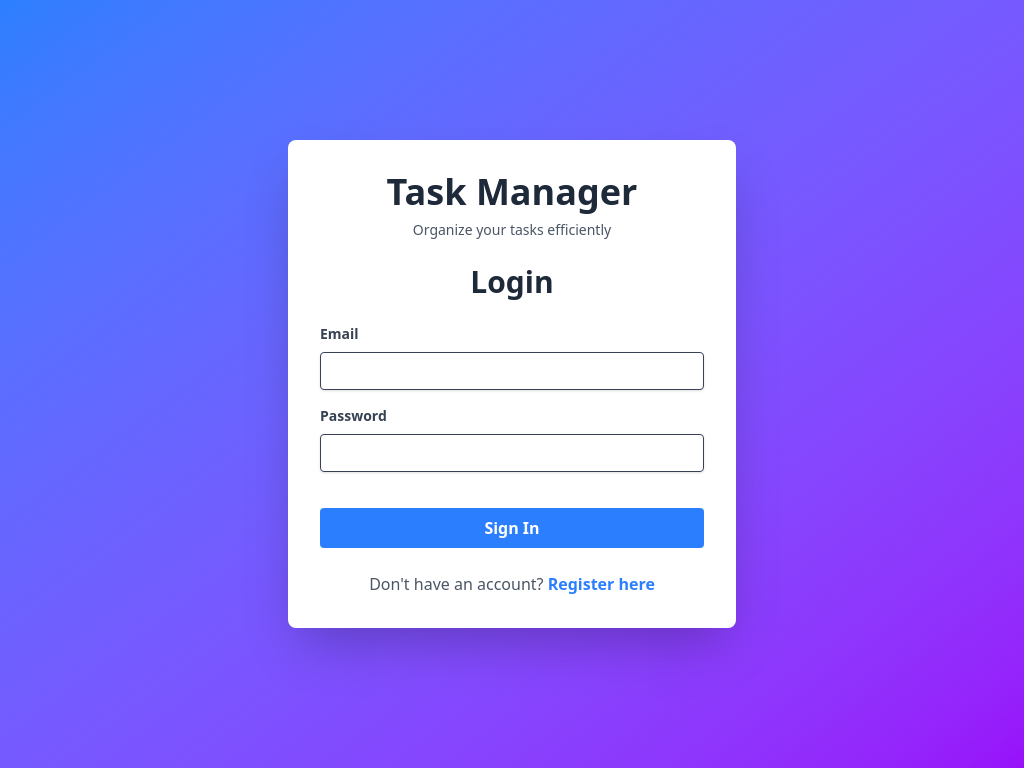
Test case: Login Component › shows loading state while submitting
Type "test@example.com" into the field labelled "Email".
click(512, 371); type("test@example.com")  # box [320,352,704,390]
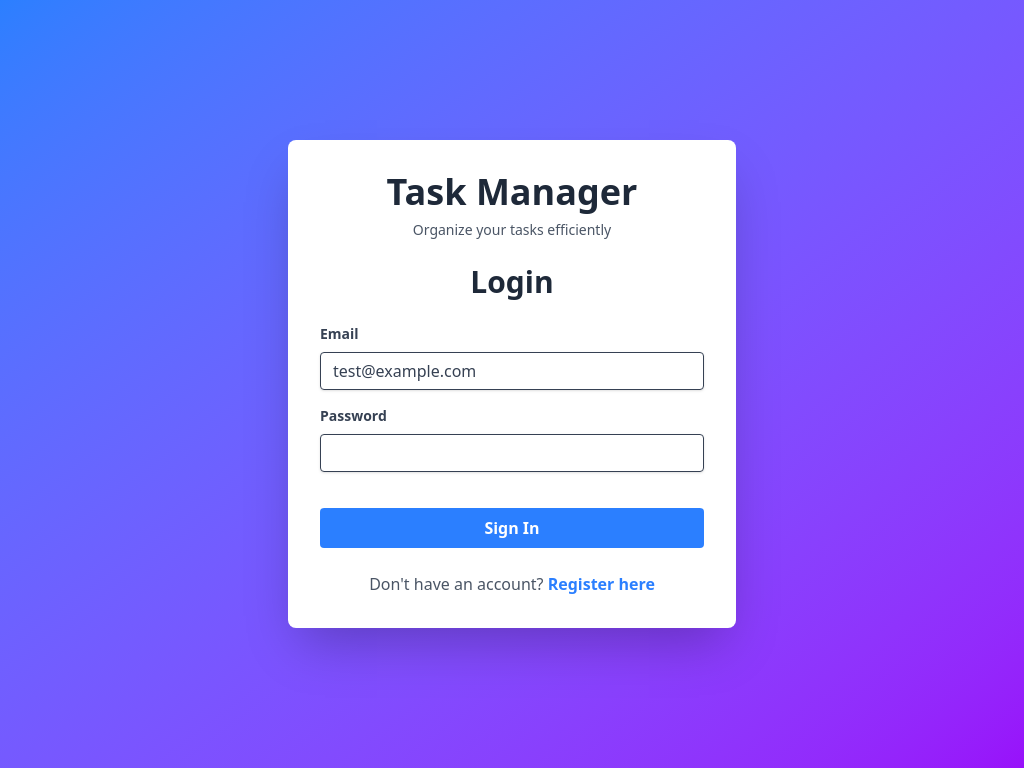
Type "password123" into the password field labelled "Password".
click(512, 453); type("password123")  # box [320,434,704,472]
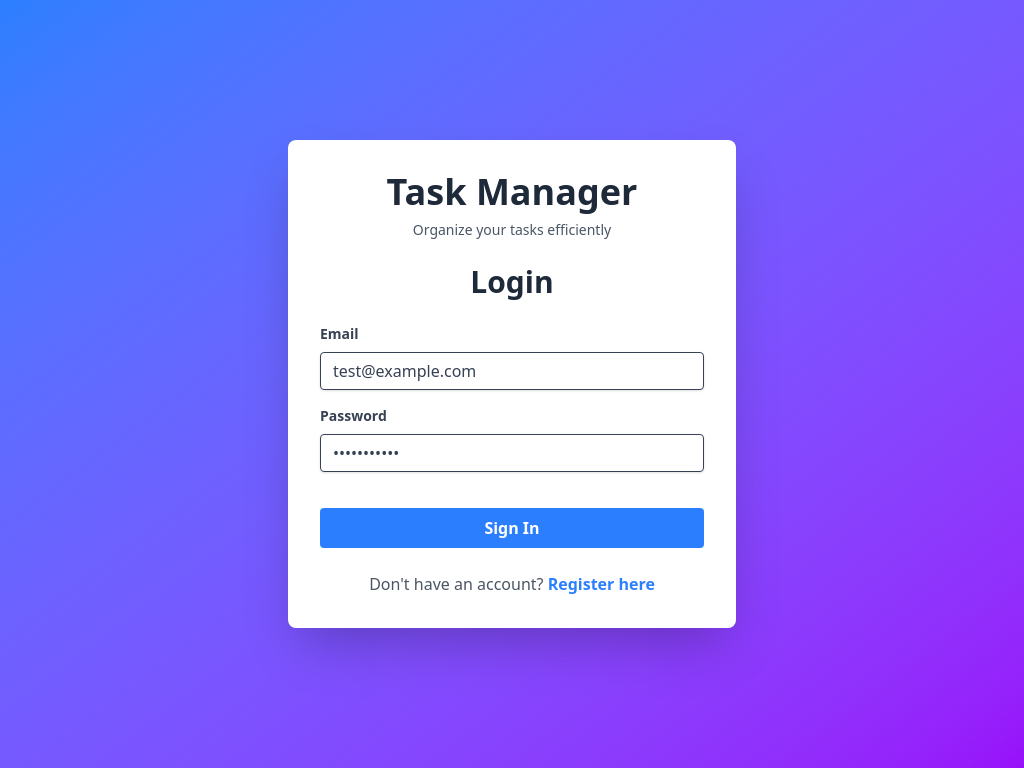
Click the button "Sign In".
click(512, 528)  # box [320,508,704,548]
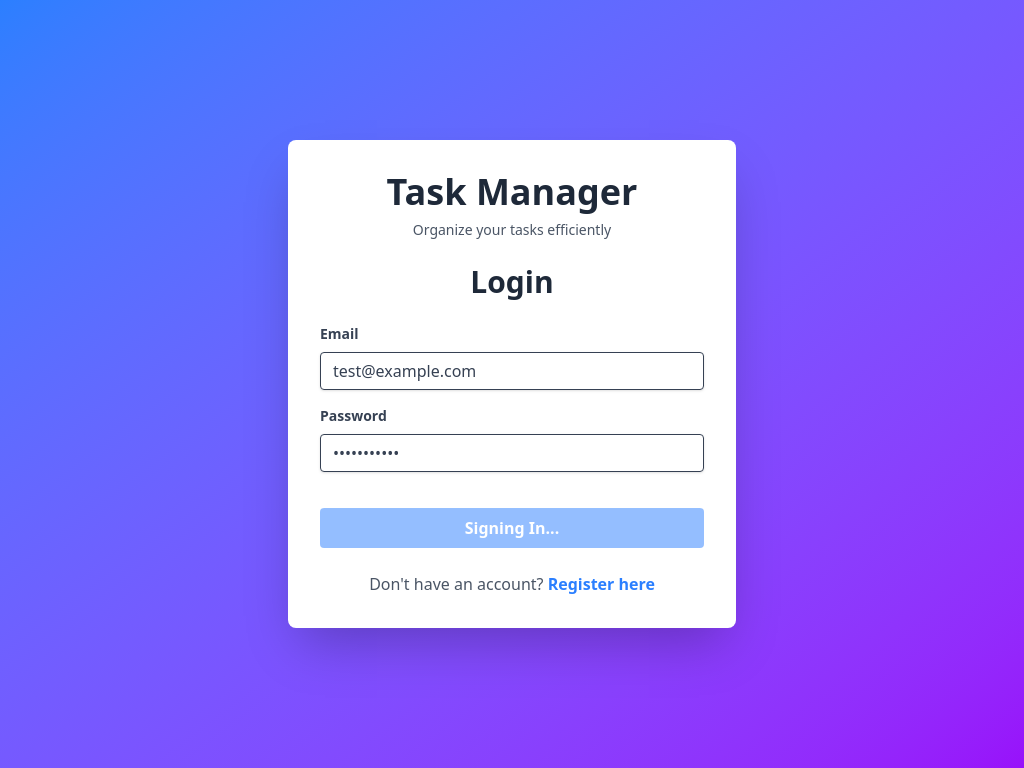
expect the button "Signing In..." is disabled: met, box [320,508,704,548]
